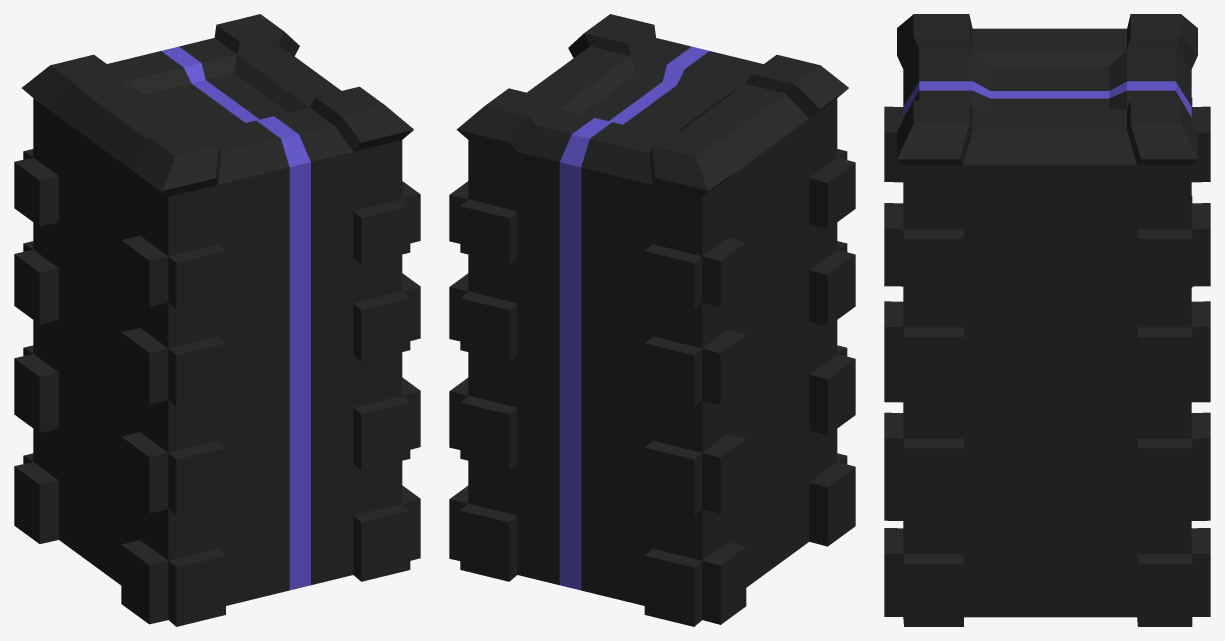
Rendered from GlowBuildingTest.fbx.
3 renders of one model, left to right at view 1: azimuth 30°, elevation 25°; view 2: azimuth 150°, elevation 25°; view 3: azimuth 270°, elevation 25°, orthographic. The views are drawn at different scales.
Visible parts, largest first — view 1: polySurface20; view 2: polySurface20; view 3: polySurface20.
Part boxes in pixels (x1=…): polySurface20: x1=14, y1=14, x2=420, y2=626; polySurface20: x1=449, y1=14, x2=855, y2=626; polySurface20: x1=884, y1=14, x2=1210, y2=626.
Bounding box in the file's own units: 2.32 × 3.73 × 2.27.
